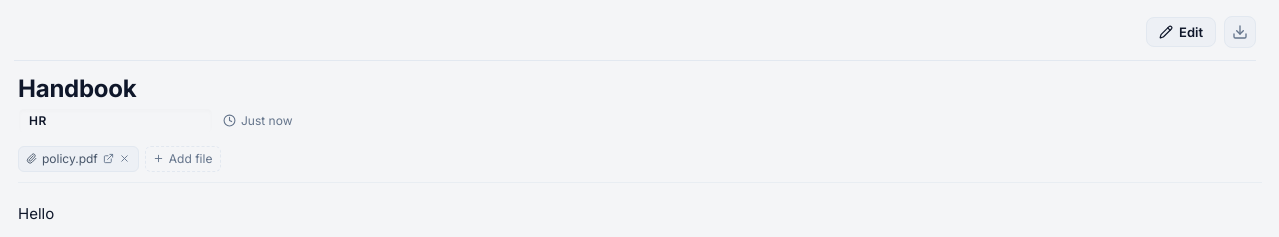
Scenario: DocumentPane read and edit modes › Edit unlocks the fields and shows Save and Cancel in its place
What coordinates should you click on to do the following:
click the button with class "doc-pane-edit-btn"
I would click on:
 (1181, 32)
Its box is top-left (1146, 17), bottom-right (1216, 47).
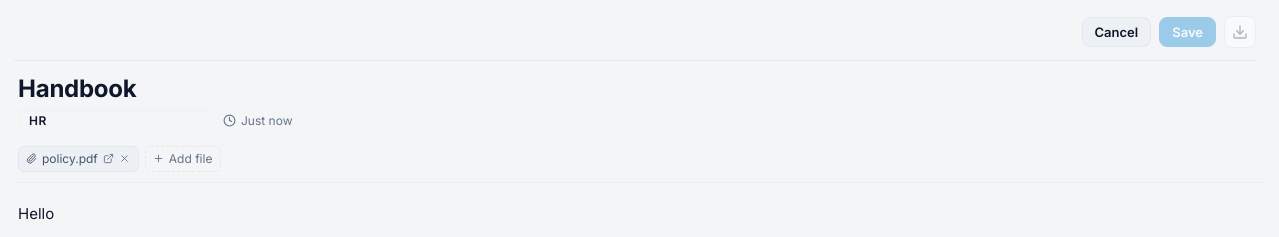
Expected: the button with class "doc-pane-edit-btn" is gone
Expected: the button with class "doc-pane-cancel-edit-btn" is enabled, top-left (1082, 17), bottom-right (1151, 47)
Expected: the button with class "doc-pane-save-edit-btn" is disabled, top-left (1159, 17), bottom-right (1216, 47)
